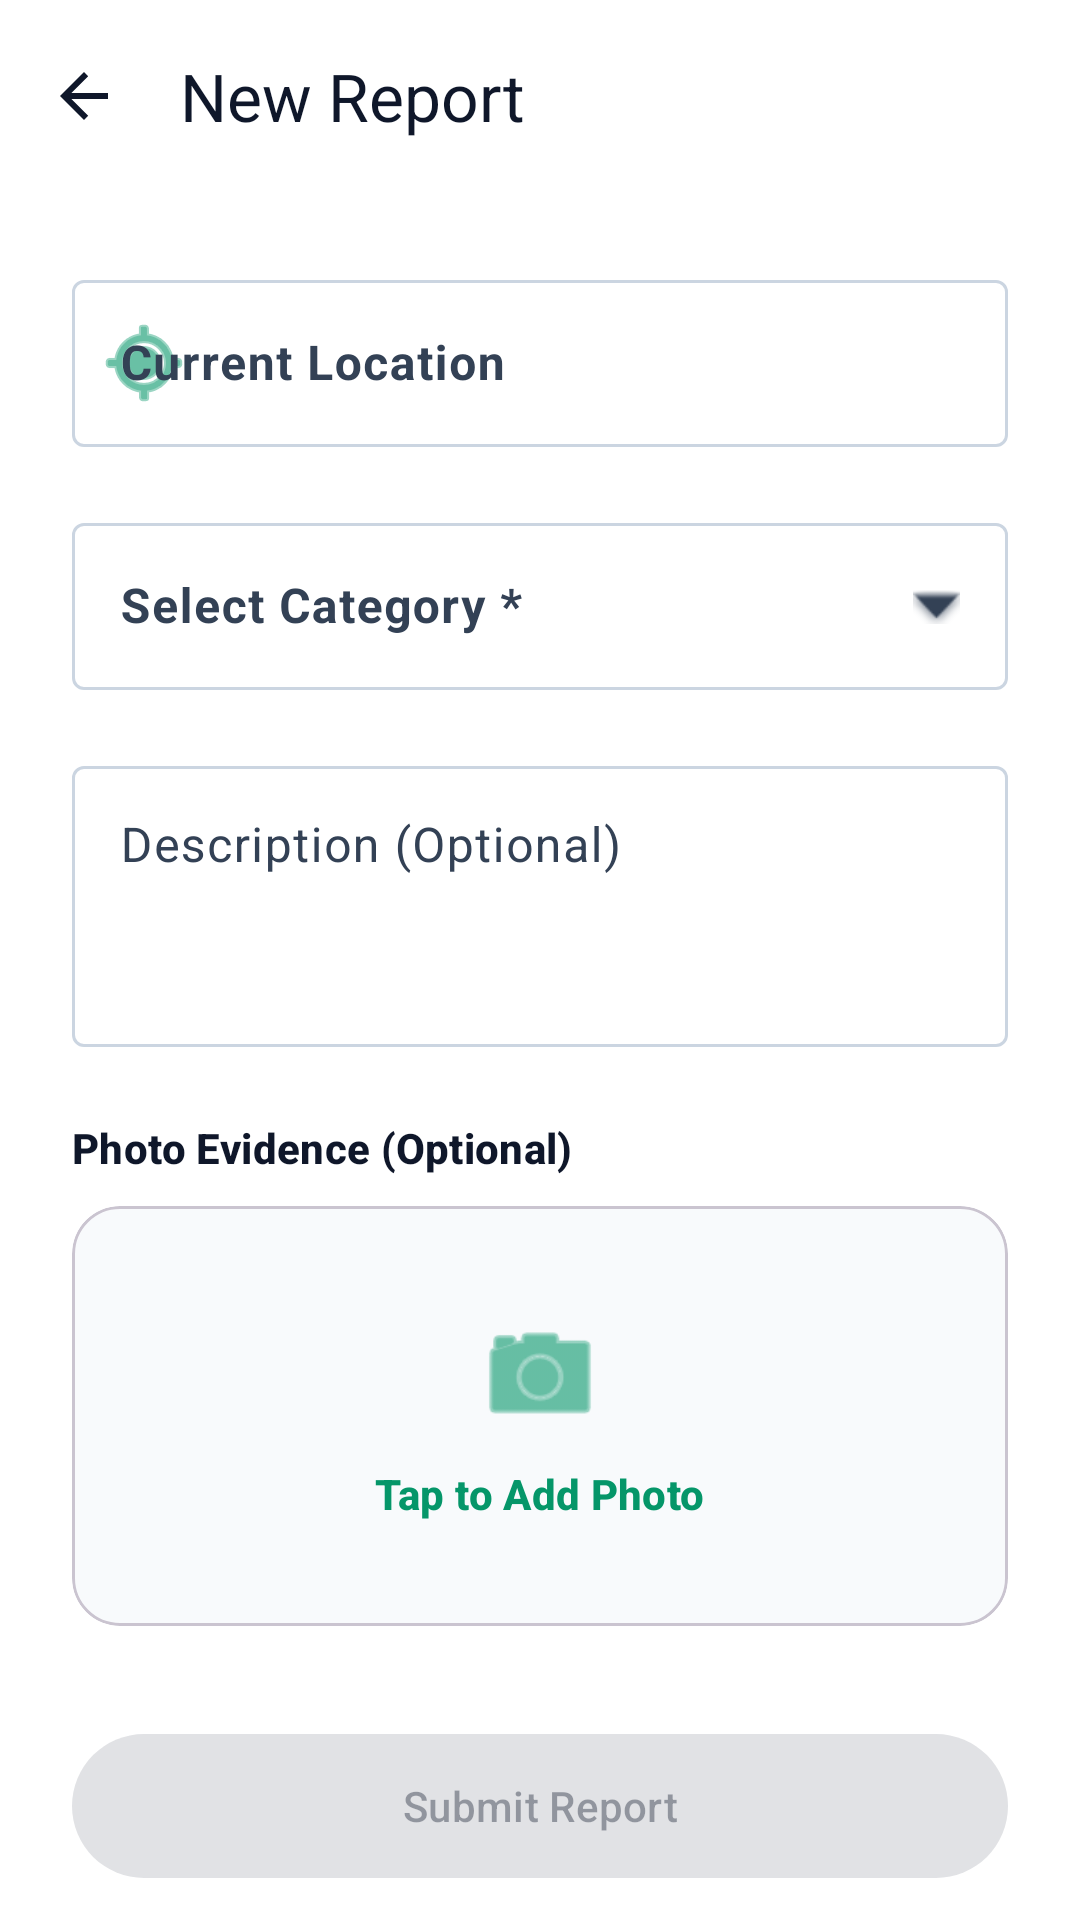

Icons on this 1080 x 1920 Android screen, each with the point to tap as point (x, y):
camera: point (540, 1373)
